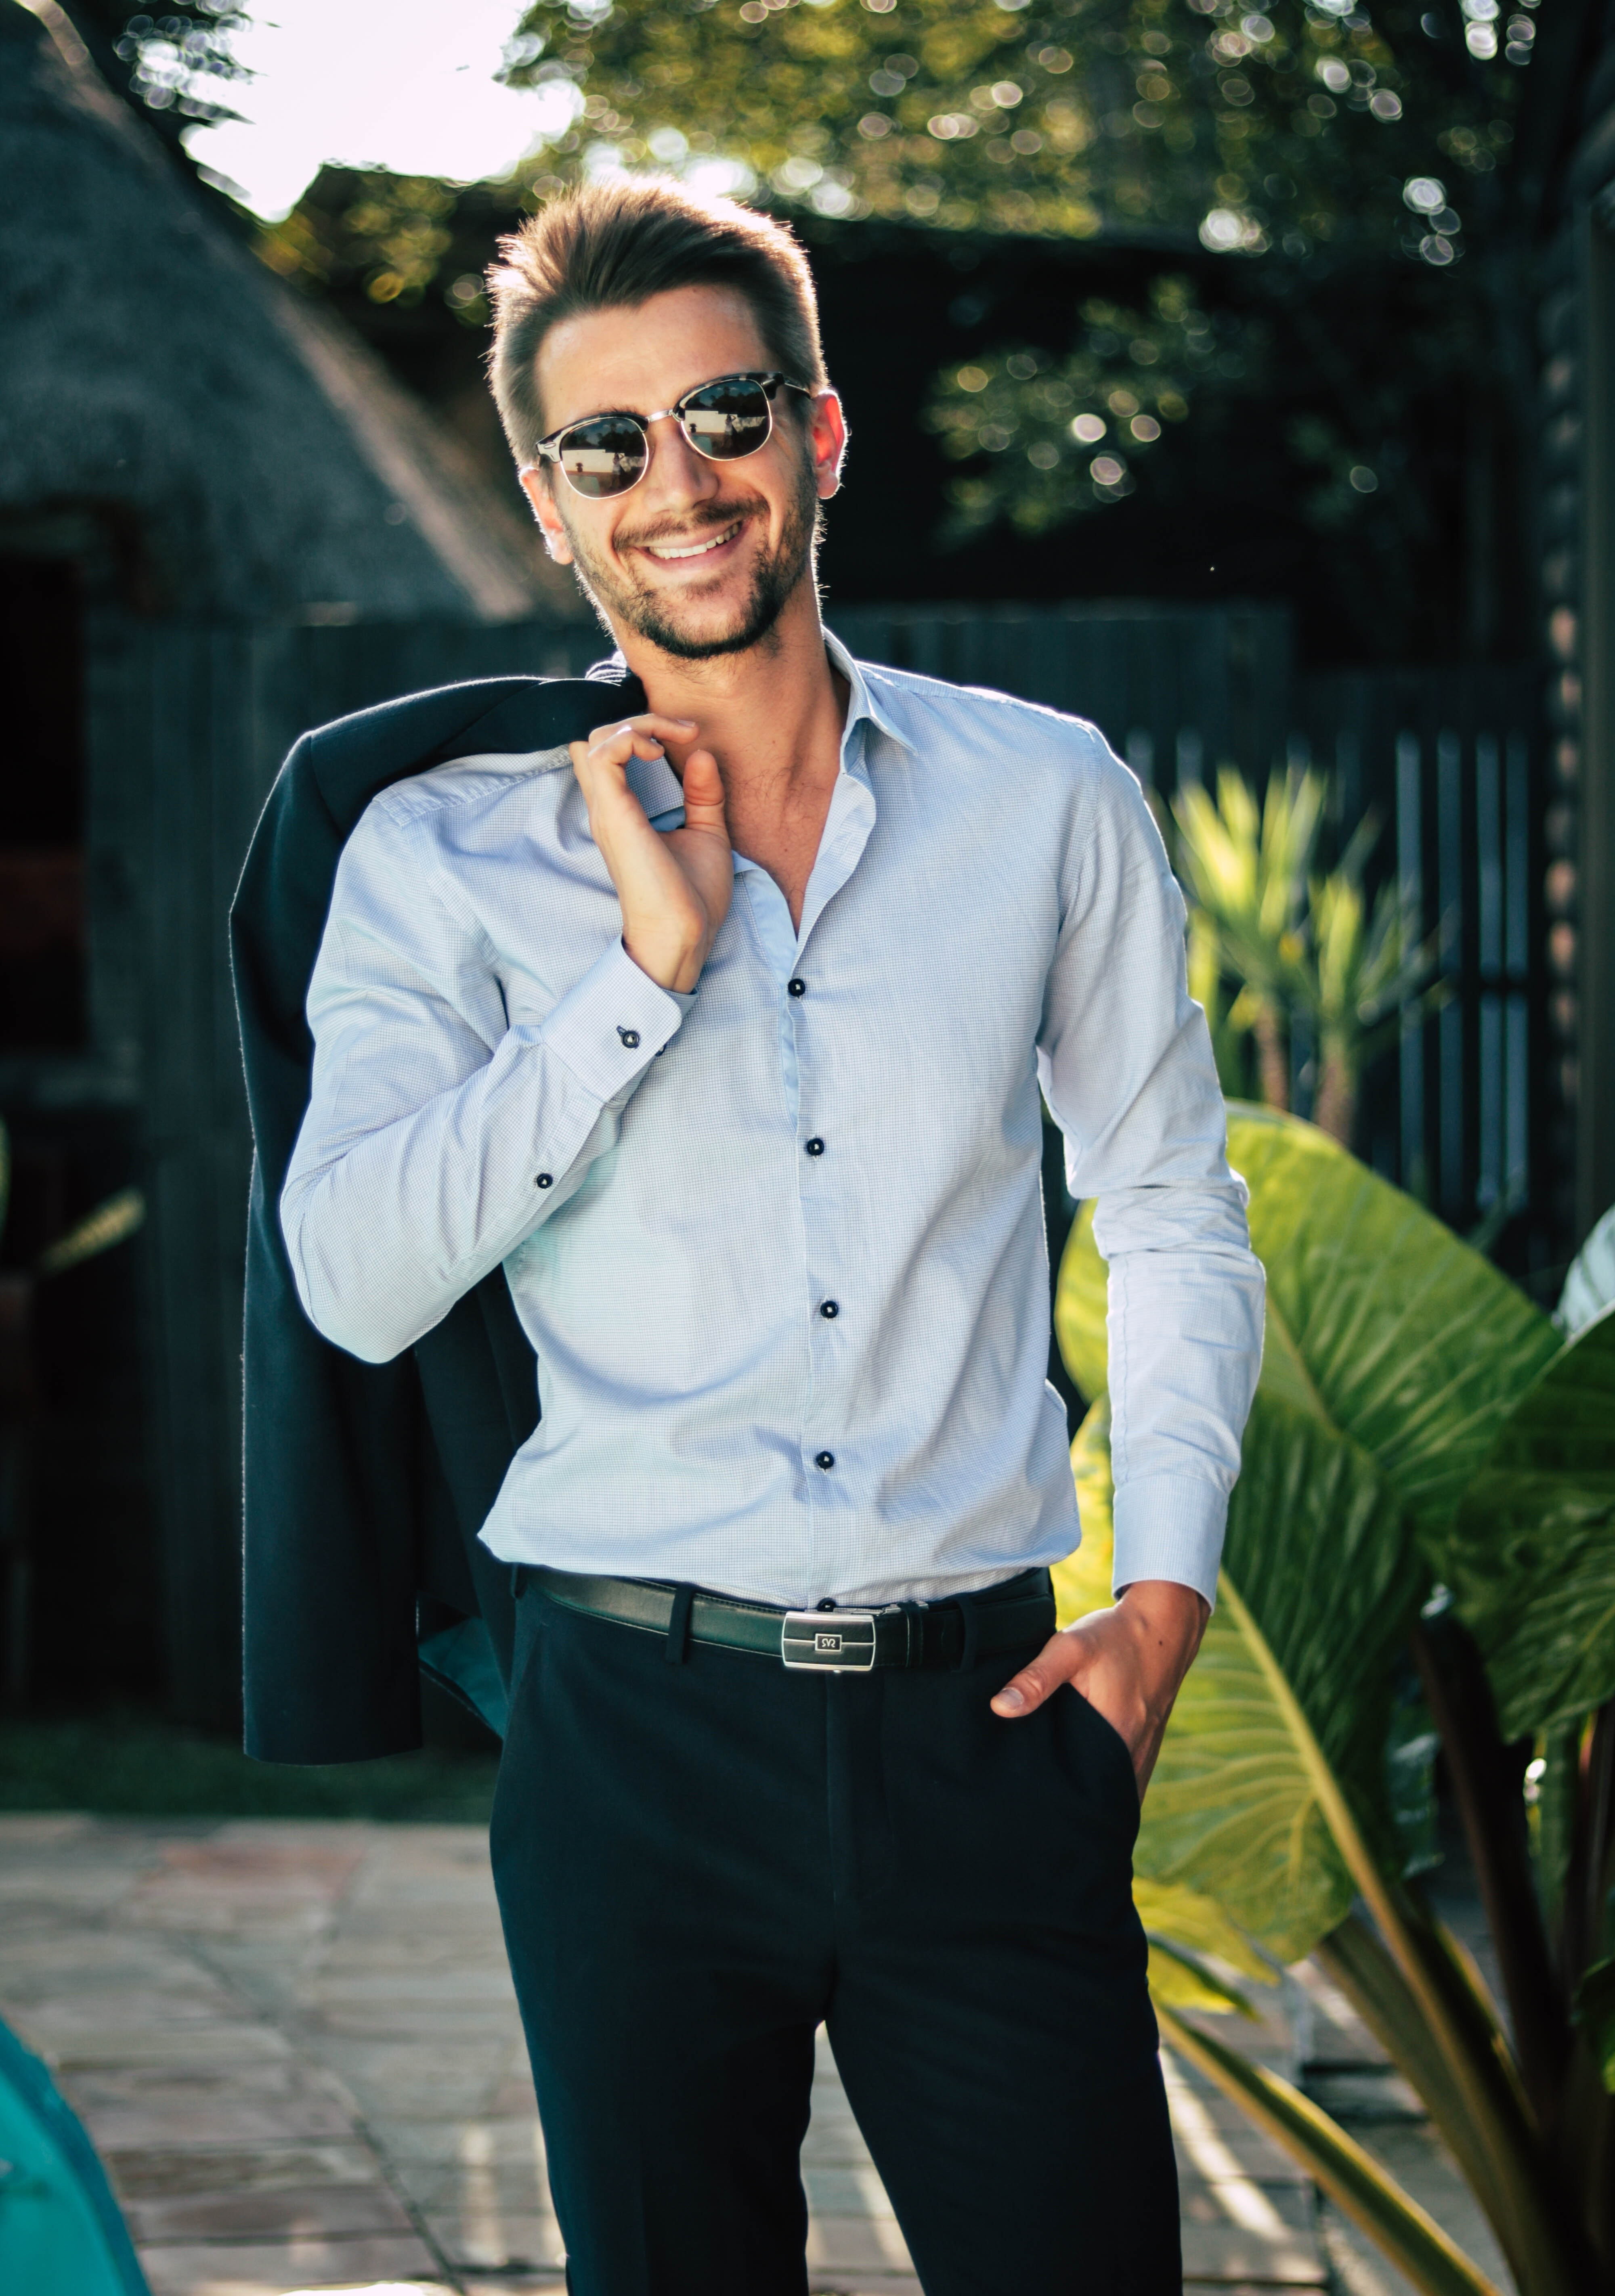face_no_mask: (522, 258, 844, 680)
